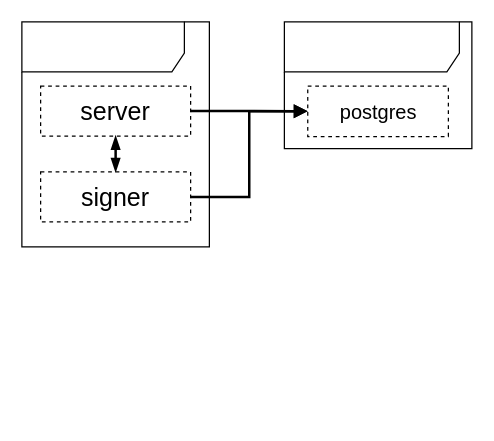
Image size: 494x441. Some labels were removed from this diagram. The shapes that lost their labels are listed below. From the top down, each one's box as (x1, y1, x2, y2) in pixels, then its label:
(283, 21, 472, 148): Postgres Pod
(21, 21, 209, 247): Notary Pod
